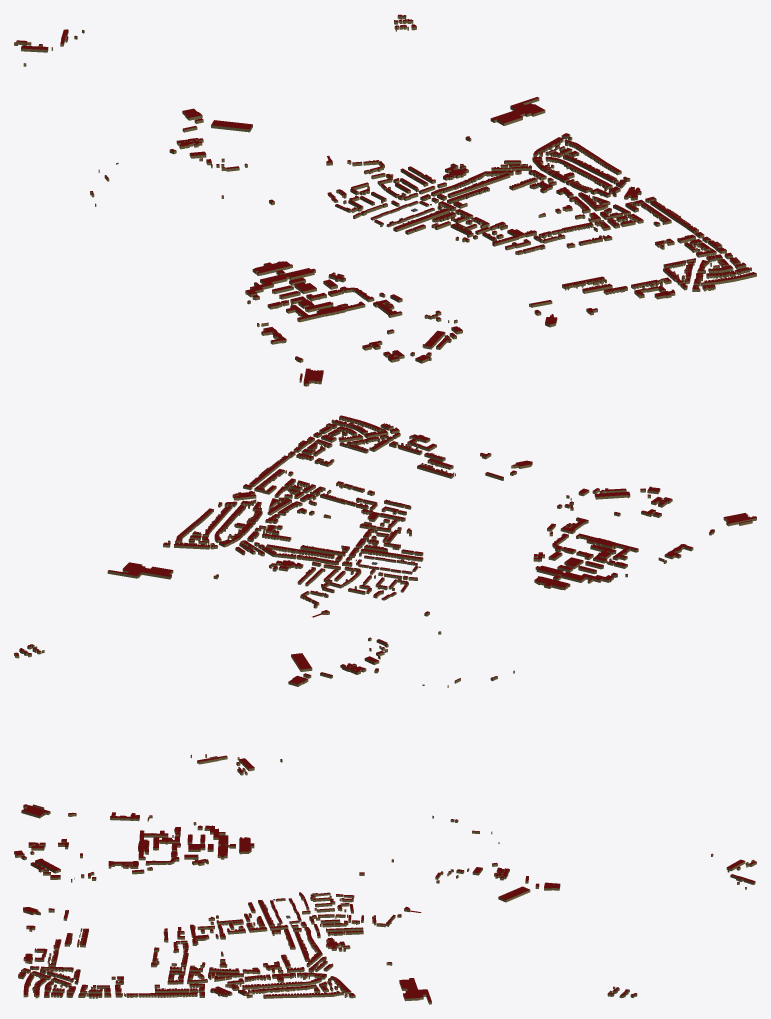
3 views of the same model, one above another, from view 1: azimuth 30°, elevation 25°; view 2: azimuth 150°, elevation 25°; view 3: azimuth 270°, elevation 25° (orthographic). The views are drawn at different scales.
Parts seen in each view (by area): view 1: Building Mountbatten Centre, Building1245, Building1089; view 2: Building Mountbatten Centre, Building1245; view 3: Building Mountbatten Centre, Building1245, Building1089.
Boxes of the visible parts, x1=… form: Building Mountbatten Centre: x1=490, y1=97, x2=545, y2=125; Building1245: x1=245, y1=268, x2=315, y2=297; Building1089: x1=286, y1=301, x2=365, y2=322; Building Mountbatten Centre: x1=107, y1=562, x2=173, y2=579; Building1245: x1=535, y1=565, x2=613, y2=583; Building Mountbatten Centre: x1=399, y1=978, x2=431, y2=1004; Building1245: x1=204, y1=825, x2=235, y2=859; Building1089: x1=138, y1=830, x2=168, y2=860.
Bounding box in the file's own units: 1326 × 10 × 2107.
